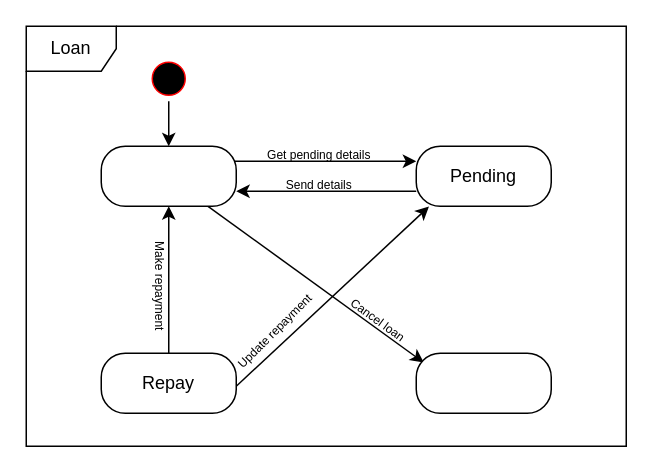
Image size: 653x473. Some labels were removed from this diagram. The box of each missing label's shape, as (x1, y1, x2, y2) in pixels:
Cacel: (415, 352, 551, 413)
History / Details: (100, 145, 236, 206)
